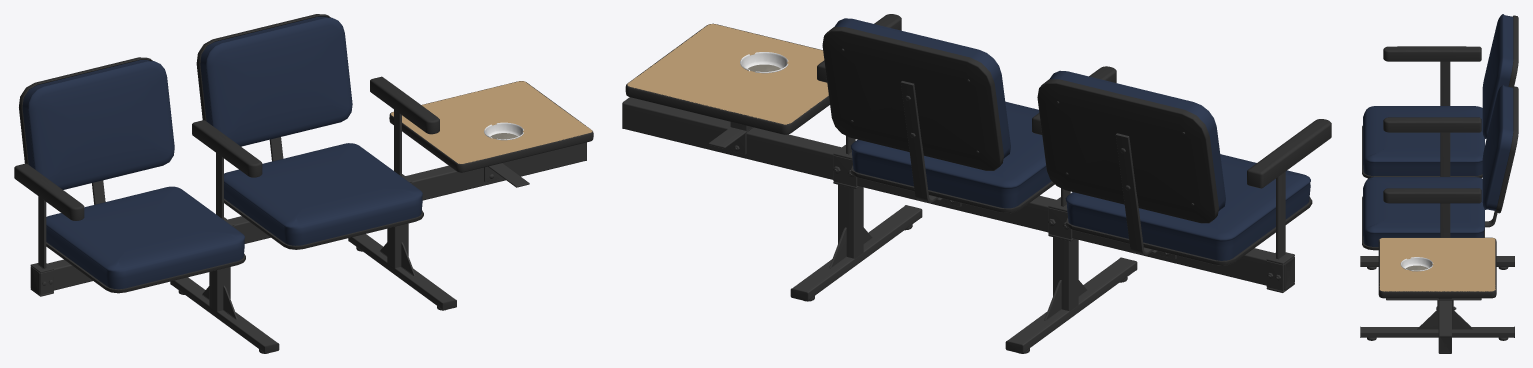
Rendered from Kit_TandemBeam2Table_Navy.fbx.
3 views of the same model, side by side, from view 1: azimuth 30°, elevation 25°; view 2: azimuth 150°, elevation 25°; view 3: azimuth 270°, elevation 25° (orthographic). The views are drawn at different scales.
Parts seen in each view (by area): view 1: Kit_TandemBeam2Table_LOD0; view 2: Kit_TandemBeam2Table_LOD0; view 3: Kit_TandemBeam2Table_LOD0.
Part boxes in pixels (<box>): Kit_TandemBeam2Table_LOD0: <box>14,14,593,353</box>; Kit_TandemBeam2Table_LOD0: <box>622,14,1331,353</box>; Kit_TandemBeam2Table_LOD0: <box>1360,14,1518,353</box>.
Size of what is drawn, in the model's own units: 2 by 0.84 by 0.6144.
